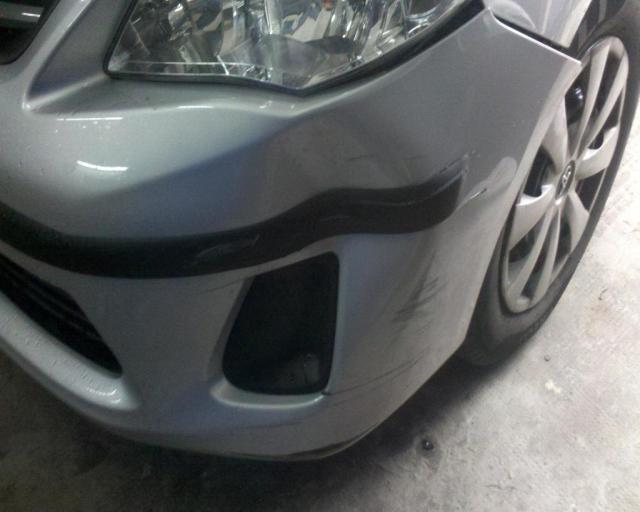dent: (242, 62, 485, 285)
scratch: (219, 353, 434, 446), (359, 240, 463, 362)
